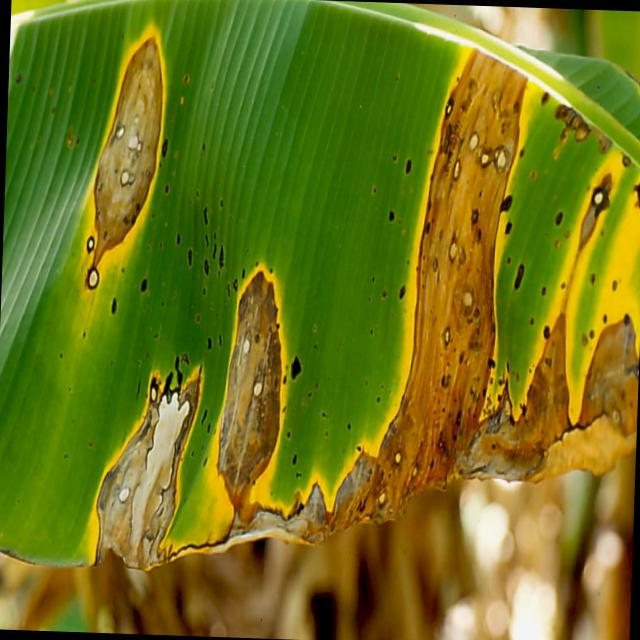leaf_spot: (0, 0, 640, 566)
